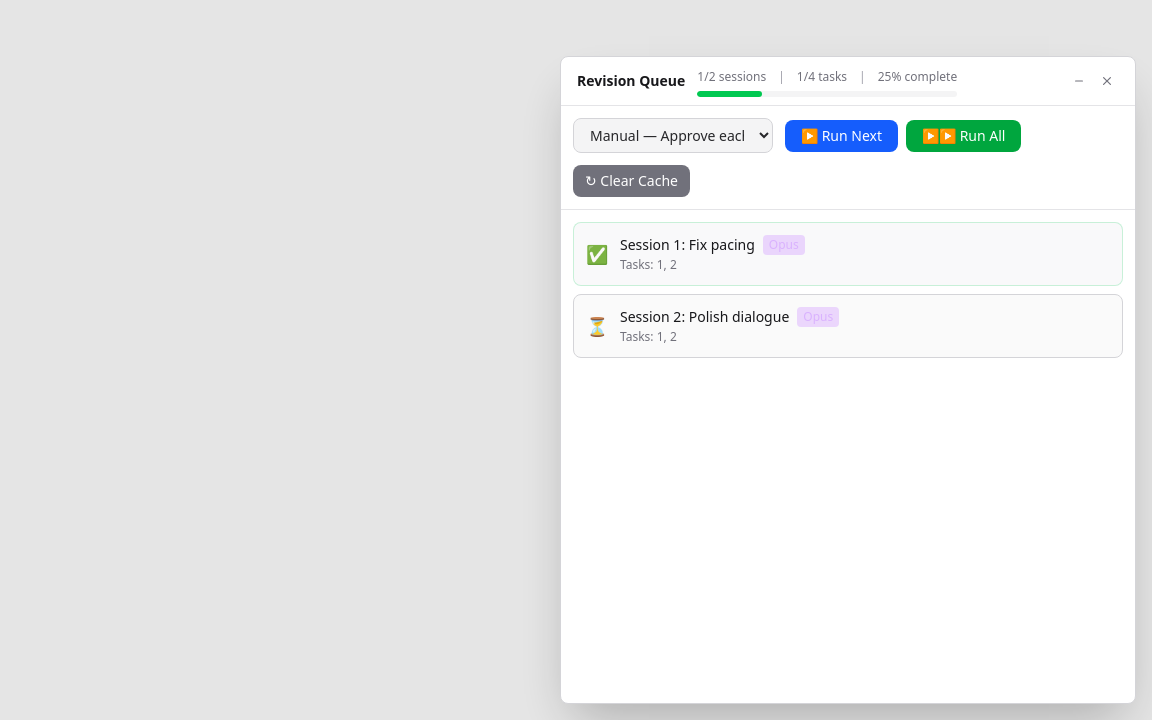
Test case: RevisionQueueModal › clicking a session opens the side panel with its details
The width and height of the screenshot is (1152, 720).
Click the text "Session 2: Polish dialogue" at (705, 317), box [620,307,789,327]
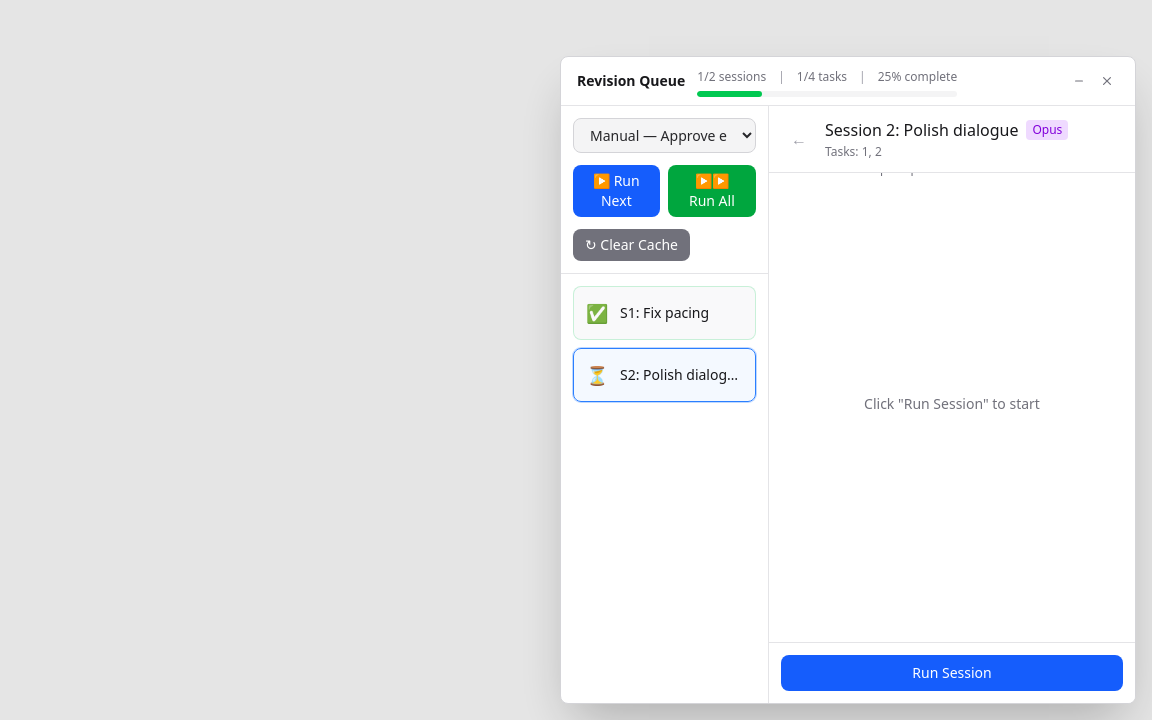
Result: the text "S1: Fix pacing" is shown at [620,303,709,323]
